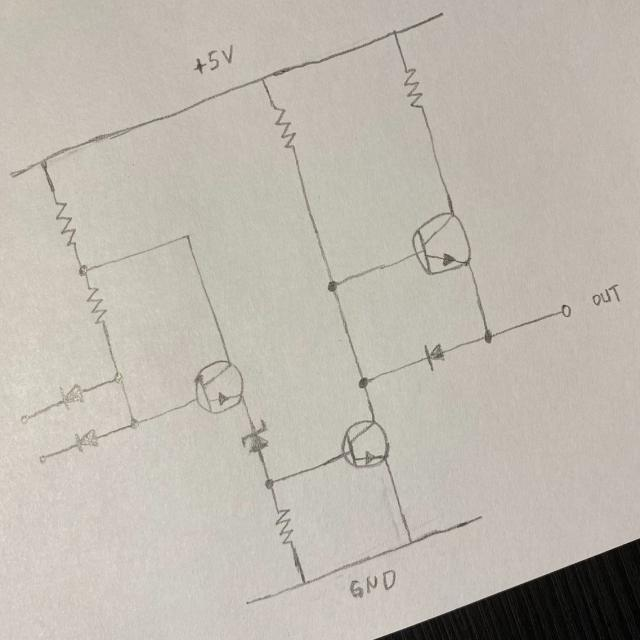diode: (233, 419, 273, 456), (70, 425, 104, 460), (419, 338, 449, 373), (54, 381, 86, 411)
junction: (350, 369, 380, 394), (257, 471, 283, 494), (478, 326, 499, 348), (323, 271, 341, 296), (108, 367, 128, 389), (292, 572, 313, 592), (124, 414, 144, 434), (32, 150, 51, 171), (386, 20, 405, 41), (255, 68, 272, 91), (74, 260, 95, 278), (179, 226, 196, 247), (400, 532, 418, 550)
resistor: (50, 194, 78, 248), (268, 103, 298, 153), (83, 284, 110, 328), (402, 63, 426, 110), (273, 506, 297, 547)
terminal: (552, 294, 578, 326), (31, 446, 57, 471), (424, 5, 454, 26), (2, 164, 28, 188), (238, 590, 262, 614), (12, 405, 34, 429), (469, 506, 492, 526)
text: (190, 42, 241, 77), (349, 569, 399, 601), (590, 281, 621, 310)
transistor: (411, 210, 474, 280), (193, 355, 247, 415), (337, 417, 392, 472)
